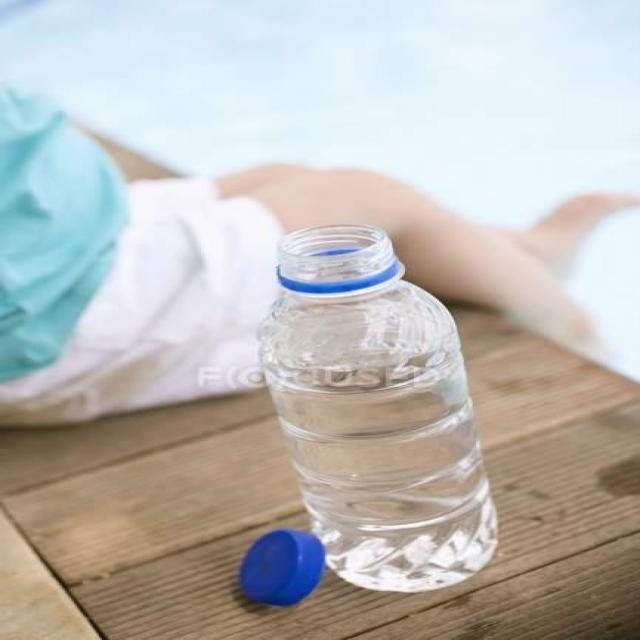bottle: (240, 223, 522, 608)
